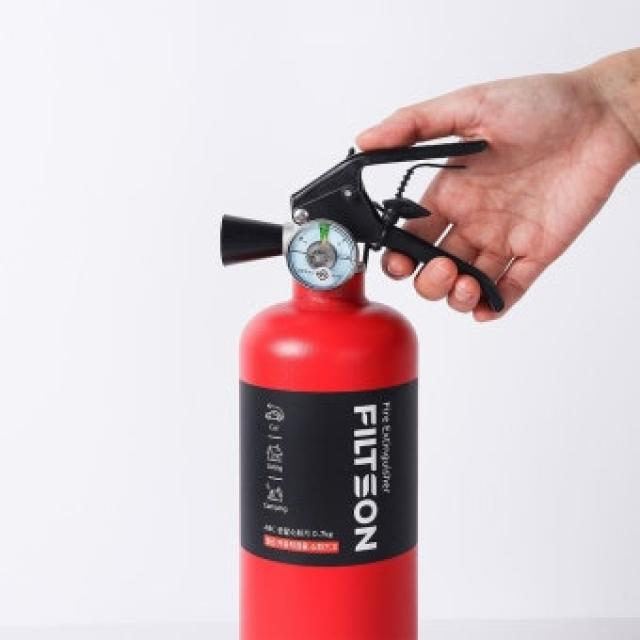pressure gauge: (287, 219, 357, 289)
